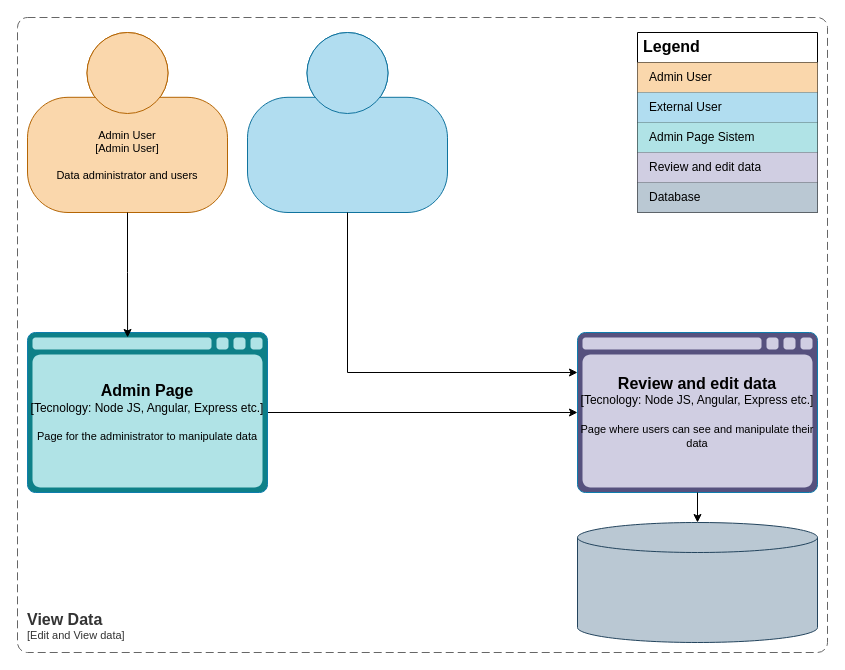
The diagram is 845 pixels wide and 670 high, and some of its shapes have lost their labels. The centre of each missing label's shape, as x and y in pixels:
Database [Tecnology: MongoDB] database to store data for each user: the point at 697,582
External User [External User] User who makes use of the web service: the point at 347,122
